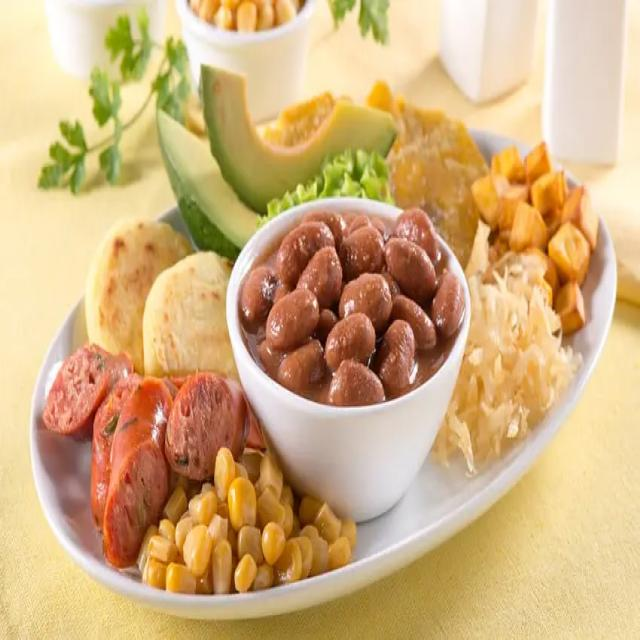aguacate: (196, 53, 394, 225)
arepa: (86, 212, 190, 380), (141, 244, 247, 398)
frijoles: (240, 207, 464, 411)
platano: (475, 134, 612, 344)
